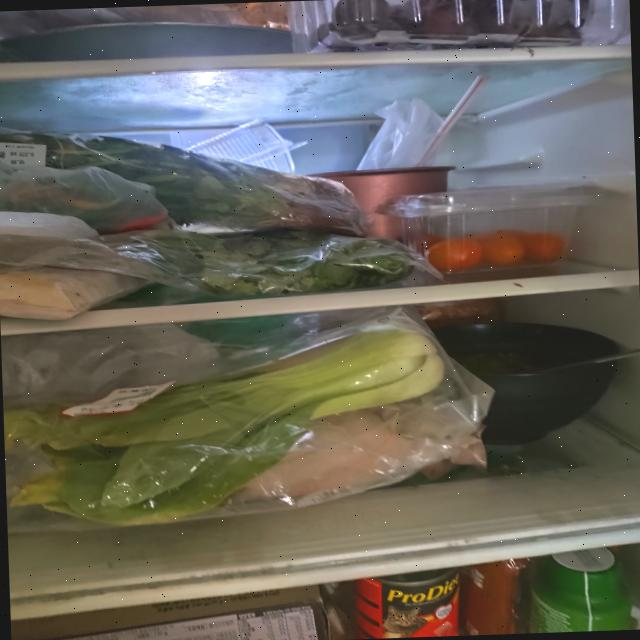leafy_greens: (0, 116, 371, 247), (125, 228, 415, 300)
pakchoy: (0, 322, 449, 530)
